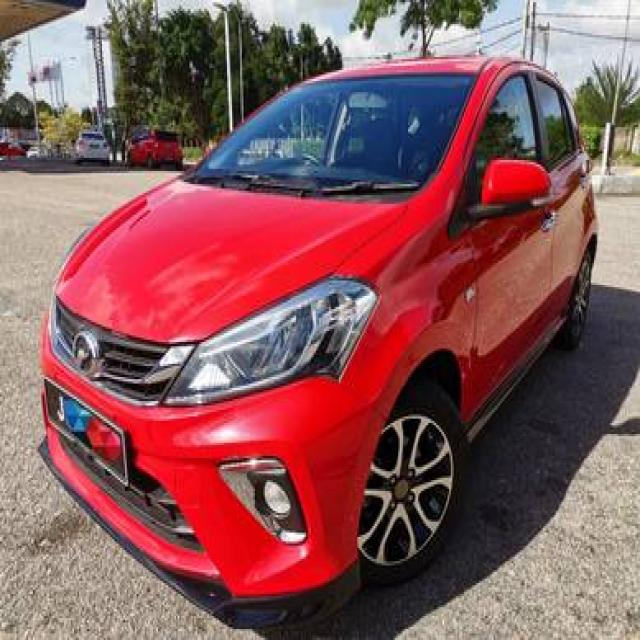PeroduaMyvi: (36, 49, 599, 634)
